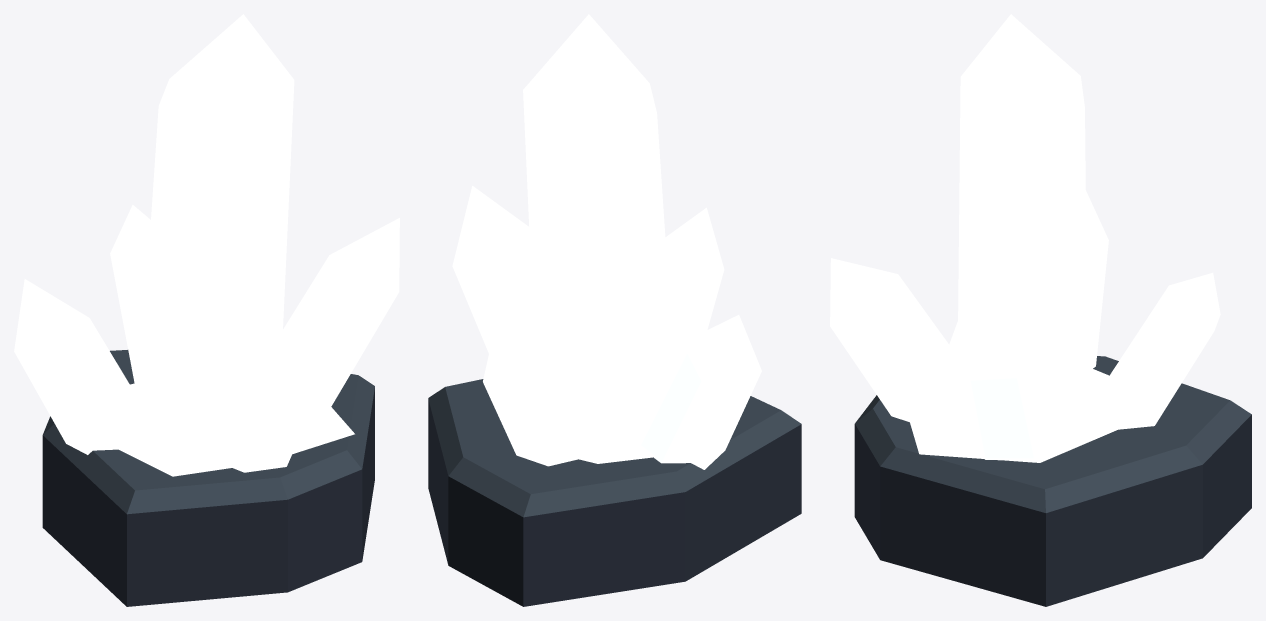
File: wf_crystals_small.glb
3 renders of one model, left to right at view 1: azimuth 30°, elevation 25°; view 2: azimuth 150°, elevation 25°; view 3: azimuth 270°, elevation 25°, orthographic. The views are drawn at different scales.
Visible parts, largest first — view 1: wf_crystals_small; view 2: wf_crystals_small; view 3: wf_crystals_small.
Boxes of the visible parts, x1,y1,x2,y2 form: wf_crystals_small: [14, 14, 399, 606]; wf_crystals_small: [428, 14, 801, 606]; wf_crystals_small: [830, 14, 1251, 606].
Bounding box in the file's own units: 0.6969 × 0.998 × 0.7345.
